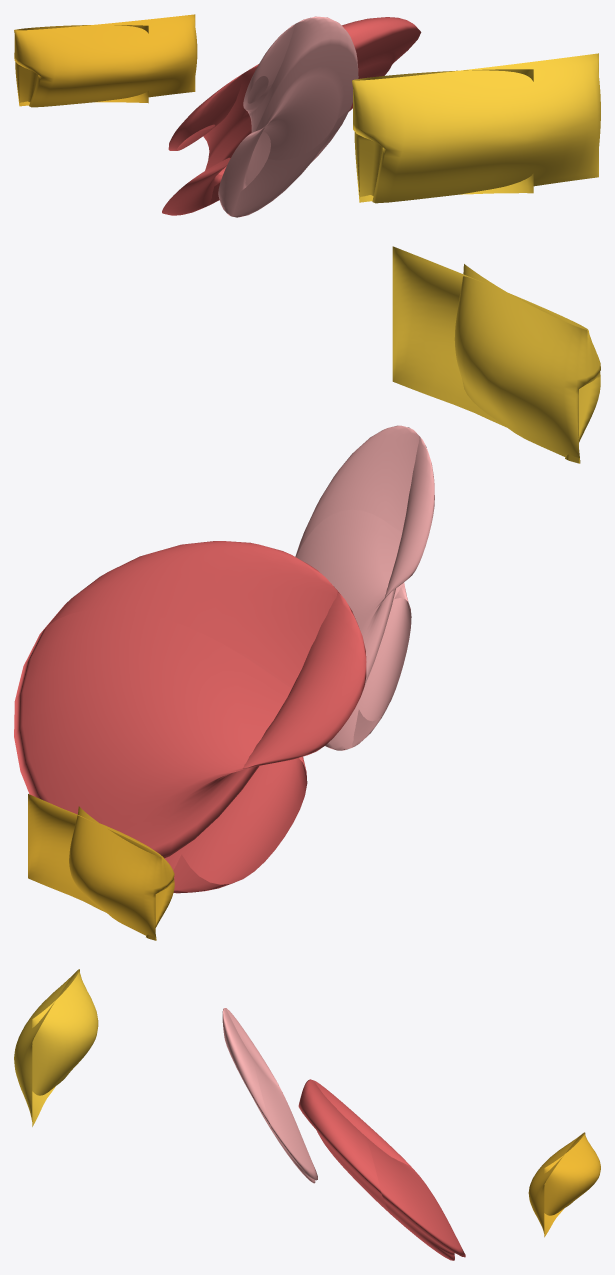
The model's file is digestive.glb.
3 views of the same model, one above another, from view 1: azimuth 30°, elevation 25°; view 2: azimuth 150°, elevation 25°; view 3: azimuth 270°, elevation 25° (orthographic). The views are drawn at different scales.
Parts seen in each view (by area): view 1: Mesh_Avian_Ingluvies, Mesh_Avian_Proventriculus, Mesh_Avian_Cloaca, Mesh_Avian_Ventriculus; view 2: Mesh_Avian_Ventriculus, Mesh_Avian_Ingluvies, Mesh_Avian_Proventriculus, Mesh_Avian_Cloaca; view 3: Mesh_Avian_Ventriculus, Mesh_Avian_Ingluvies, Mesh_Avian_Proventriculus, Mesh_Avian_Cloaca.
Part boxes in pixels (x1=…): Mesh_Avian_Ingluvies: x1=352, y1=53, x2=600, y2=203; Mesh_Avian_Proventriculus: x1=218, y1=16, x2=358, y2=217; Mesh_Avian_Cloaca: x1=14, y1=14, x2=197, y2=107; Mesh_Avian_Ventriculus: x1=162, y1=17, x2=421, y2=215; Mesh_Avian_Ventriculus: x1=14, y1=541, x2=366, y2=893; Mesh_Avian_Ingluvies: x1=392, y1=246, x2=600, y2=463; Mesh_Avian_Proventriculus: x1=295, y1=425, x2=434, y2=750; Mesh_Avian_Cloaca: x1=28, y1=794, x2=174, y2=940; Mesh_Avian_Ventriculus: x1=298, y1=1079, x2=465, y2=1260; Mesh_Avian_Ingluvies: x1=14, y1=969, x2=98, y2=1126; Mesh_Avian_Proventriculus: x1=222, y1=1008, x2=317, y2=1183; Mesh_Avian_Cloaca: x1=528, y1=1132, x2=600, y2=1237.
Size of the model in its own units: 0.2712 by 0.3158 by 0.6924.
